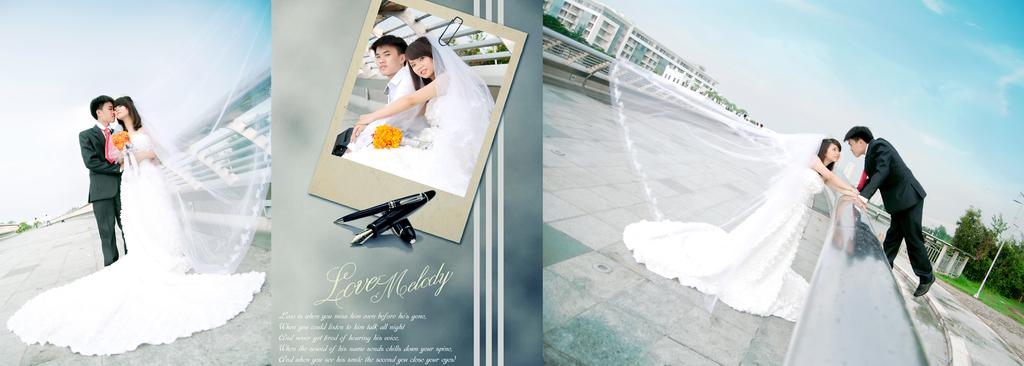pen: (353, 203, 420, 248), (330, 192, 434, 220), (390, 213, 420, 245)
